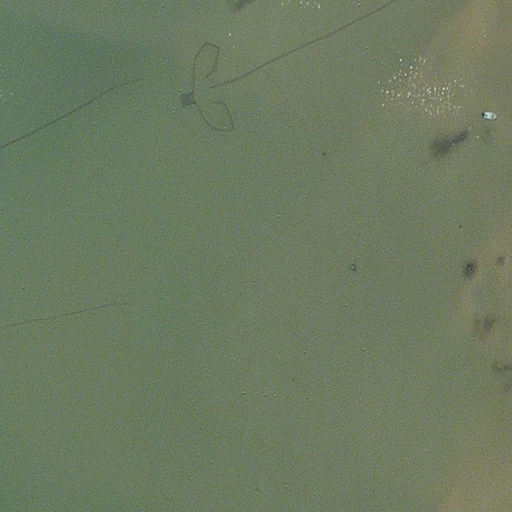ship: (482, 110, 498, 122)
